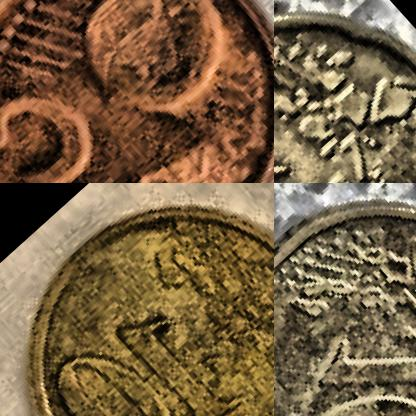coin: (0, 183, 273, 415), (0, 0, 273, 182), (274, 183, 415, 415), (274, 0, 415, 182)
